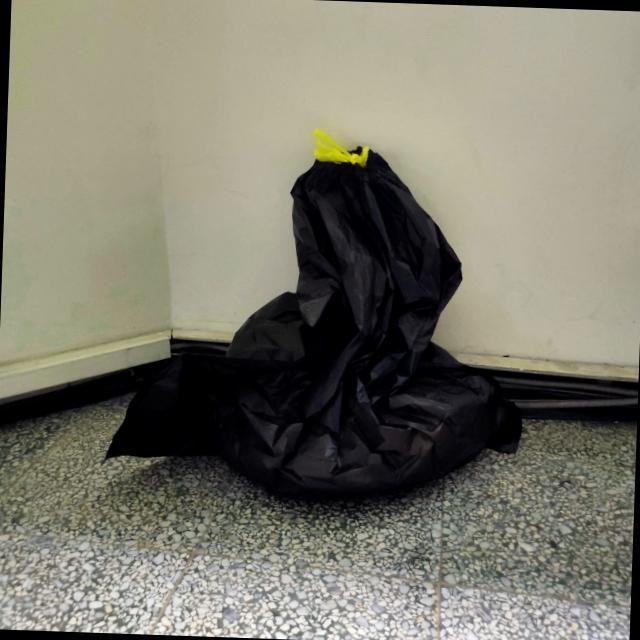garbage: (99, 99, 552, 522)
